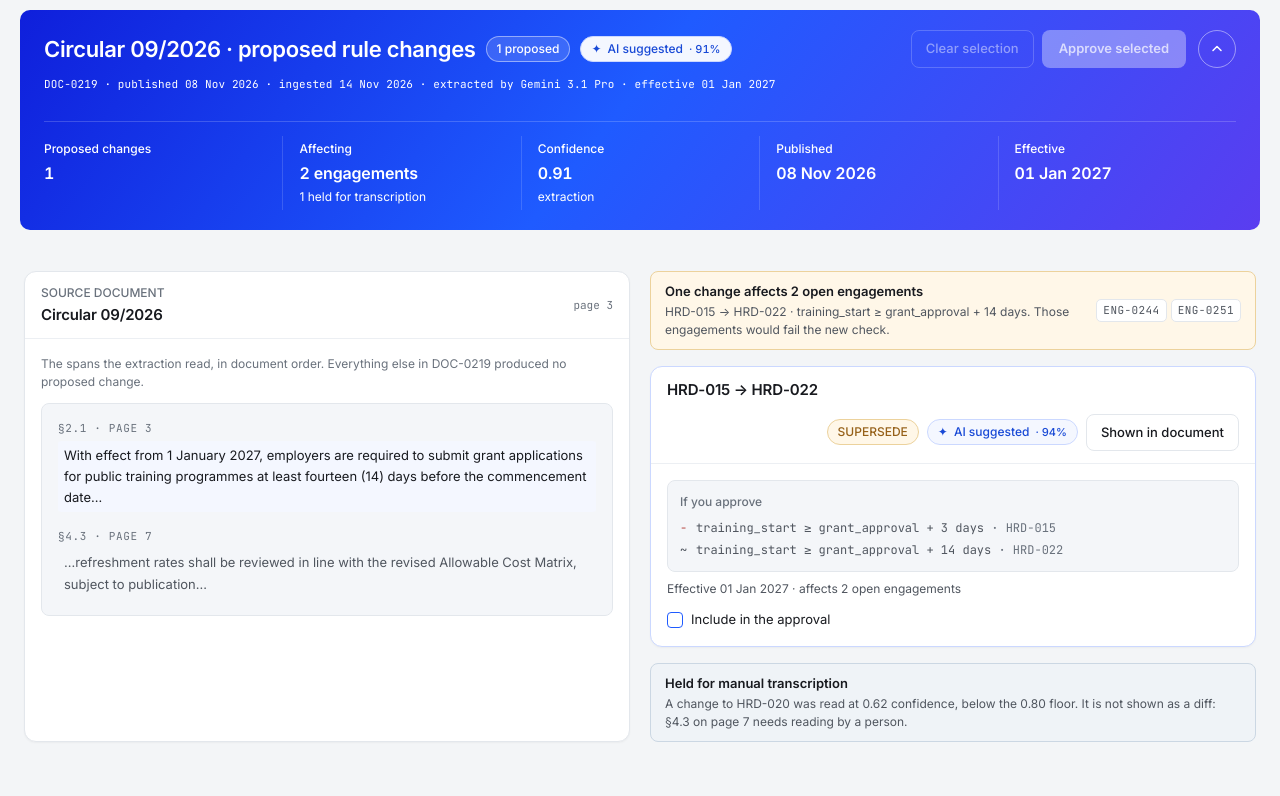
Test: M12-S08 · rule change review › queues the approval rather than activating the rule
Expected: the button "Approve selected" is disabled, [1042, 30, 1186, 68]
What coordinates should you click on to do the following:
click the checkbox named "Include chg_1"
I would click on:
 (675, 620)
Its box is [667, 612, 683, 628].
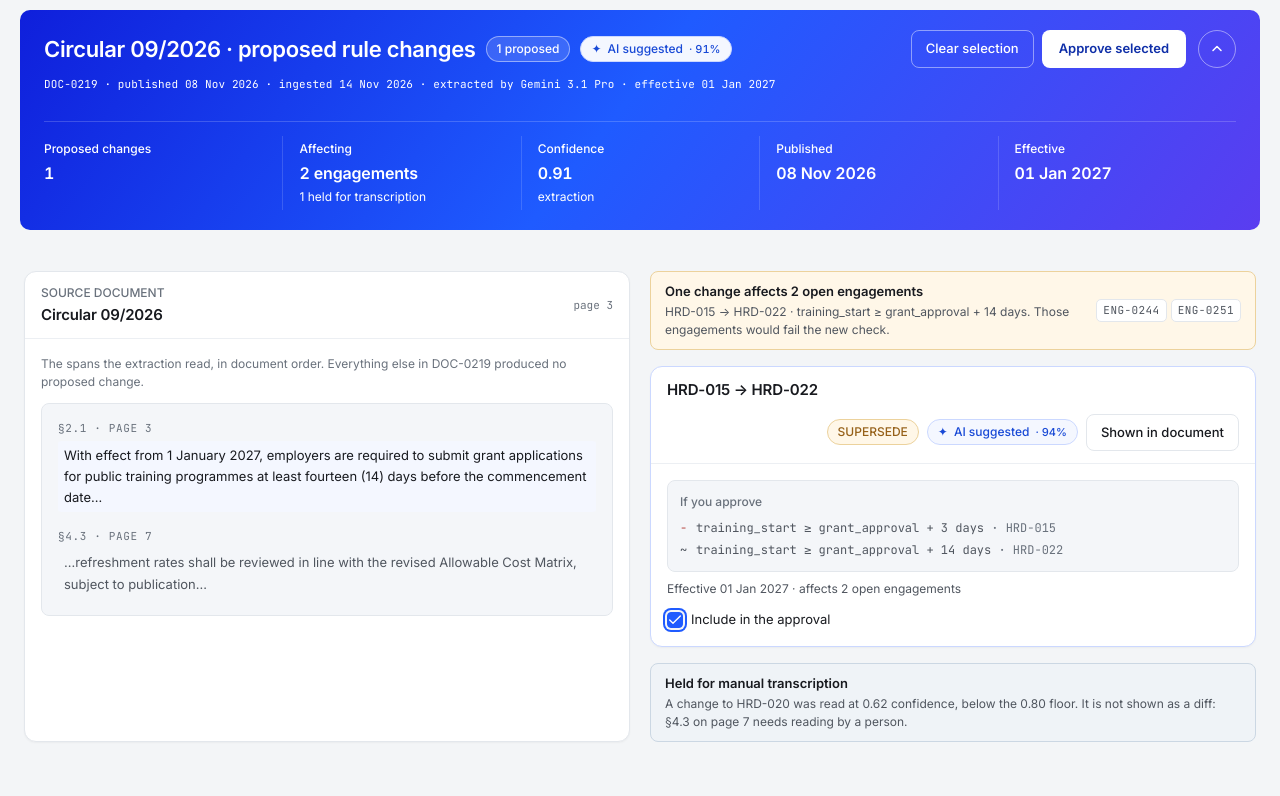
Expected: the button "Approve selected" is enabled
What coordinates should you click on to do the following:
click the button "Approve selected"
I would click on:
 (1114, 49)
Its box is [1042, 30, 1186, 68].
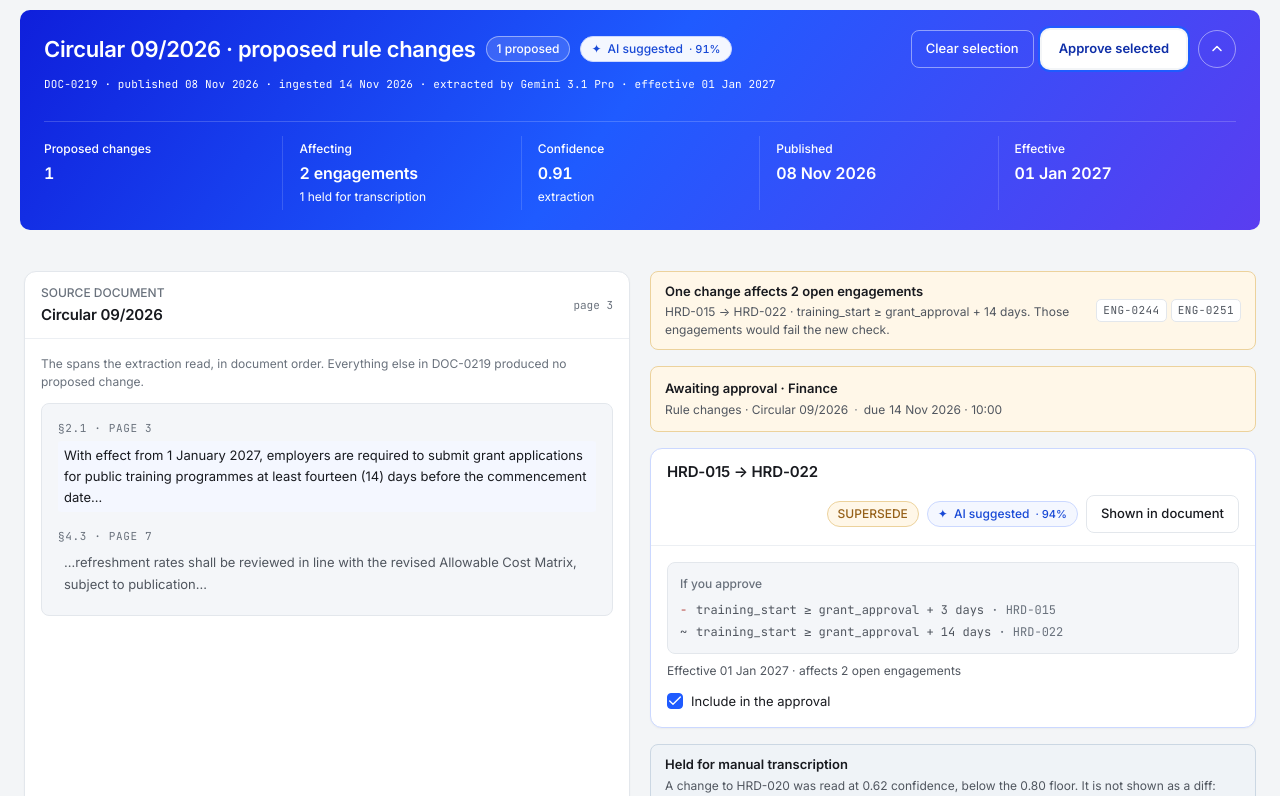
Expected: the text "Rule changes · Circular 09/2026" is shown, [665, 400, 848, 418]
